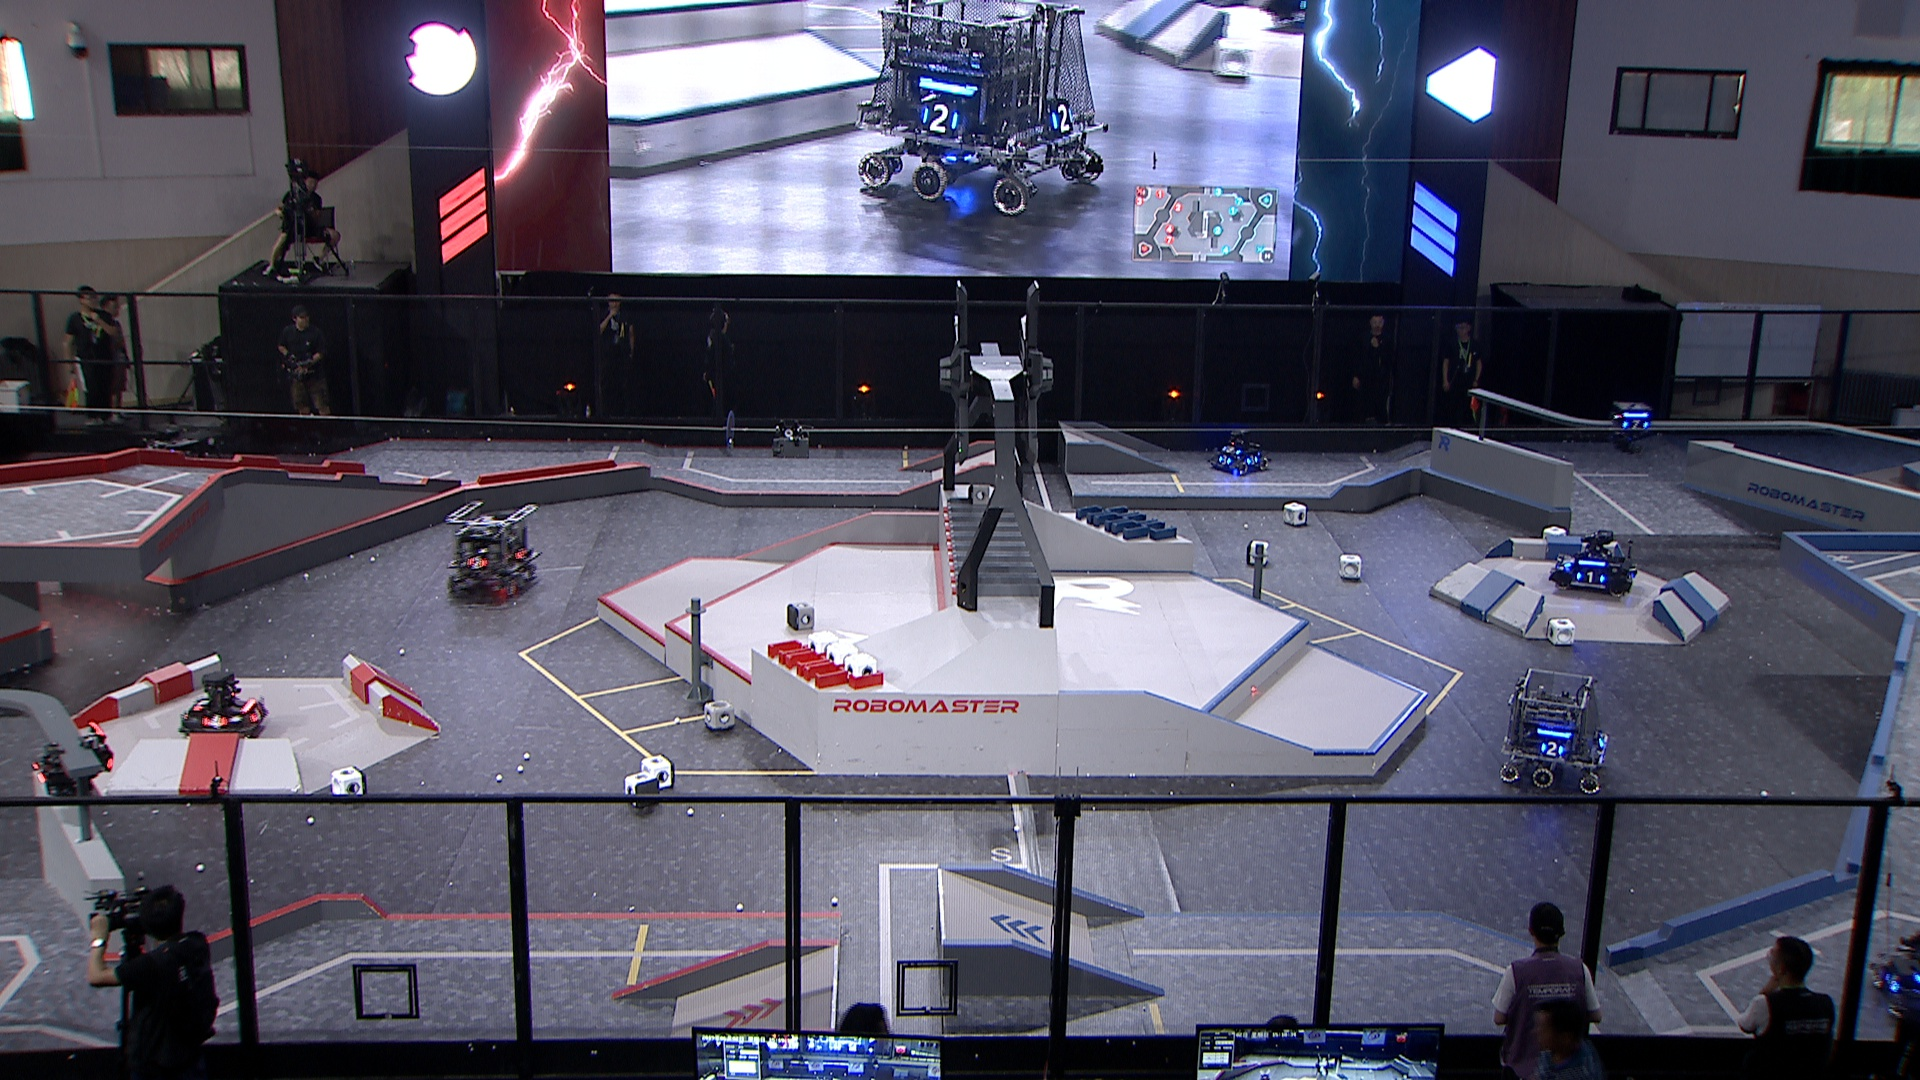armor: (1879, 971, 1903, 994), (1575, 571, 1607, 584), (200, 713, 229, 728), (465, 553, 487, 571), (1542, 740, 1565, 756), (30, 764, 50, 782), (190, 698, 212, 712), (1218, 444, 1244, 456), (248, 704, 264, 723), (1244, 454, 1262, 469), (1622, 419, 1650, 429), (513, 546, 527, 562), (1560, 553, 1575, 567), (1216, 454, 1232, 465)
car: (1495, 666, 1615, 796), (444, 498, 543, 603), (129, 418, 214, 502), (177, 666, 268, 738), (1547, 526, 1638, 597), (1869, 920, 1920, 1026), (1207, 425, 1273, 479)
watcher: (25, 716, 119, 803), (1607, 401, 1654, 458)
